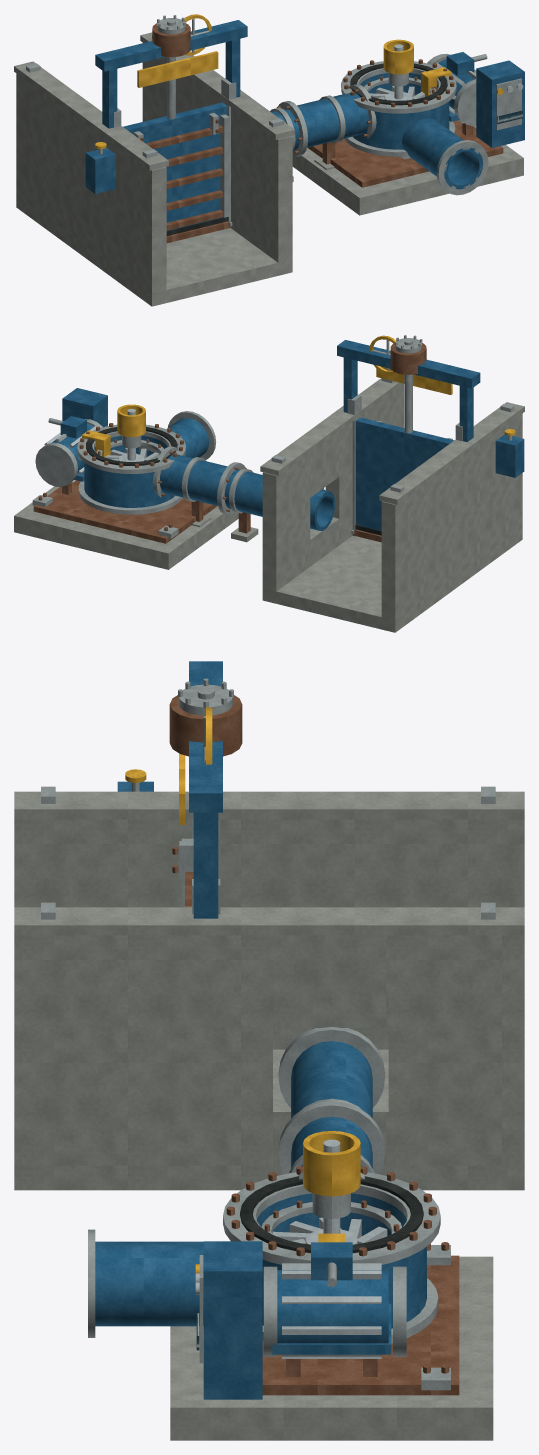
The model's file is PROJECT_Z_MicroHydro_Sluice_Turbine_Master.glb.
3 renders of one model, top to bottom at view 1: azimuth 30°, elevation 25°; view 2: azimuth 150°, elevation 25°; view 3: azimuth 270°, elevation 25°, orthographic. The views are drawn at different scales.
Parts seen in each view (by area): view 1: Sluice_Left_CanalWall_NODE, Sluice_Floor_4p5m_NODE, Sluice_RightWall_FlowFront_NODE, Gate_Panel_2p1m_NODE, Turbine_EquipmentFoundation_NODE, Canal_Coping_-1_NODE, DraftTube_Discharge_Pipe_NODE, Turbine_Skid_Deck_NODE, Turbine_ControlCabinet_NODE, Penstock_MainPipe_NODE, Turbine_Casing_Annulus_NODE, Gantry_LiftingCrossbeam_NODE (+30 smaller); view 2: Sluice_Left_CanalWall_NODE, Sluice_Floor_4p5m_NODE, Turbine_EquipmentFoundation_NODE, Sluice_RightWall_FlowRear_NODE, Gate_Panel_2p1m_NODE, Penstock_MainPipe_NODE, Turbine_Skid_Deck_NODE, Turbine_Casing_Annulus_NODE, Sluice_RightWall_FlowFront_NODE, Canal_Coping_-1_NODE, Canal_Coping_1_NODE, Gantry_LiftingCrossbeam_NODE (+20 smaller); view 3: Sluice_RightWall_FlowFront_NODE, Sluice_Left_CanalWall_NODE, Sluice_RightWall_FlowRear_NODE, Turbine_EquipmentFoundation_NODE, Canal_Coping_1_NODE, Canal_Coping_-1_NODE, Sluice_RightWall_PenstockHeader_NODE, Sluice_Floor_4p5m_NODE, Turbine_Skid_Deck_NODE, Turbine_ControlCabinet_NODE, DraftTube_Discharge_Pipe_NODE, Penstock_MainPipe_NODE (+19 smaller).
Part boxes in pixels (box(x1,y1,x2,y2)): Sluice_Left_CanalWall_NODE: box(16, 73, 166, 293); Sluice_Floor_4p5m_NODE: box(16, 194, 292, 306); Sluice_RightWall_FlowFront_NODE: box(209, 91, 292, 262); Gate_Panel_2p1m_NODE: box(123, 102, 227, 230); Turbine_EquipmentFoundation_NODE: box(292, 126, 523, 215); Canal_Coping_-1_NODE: box(14, 61, 168, 170); DraftTube_Discharge_Pipe_NODE: box(402, 118, 483, 189); Turbine_Skid_Deck_NODE: box(308, 120, 503, 187); Turbine_ControlCabinet_NODE: box(476, 60, 524, 147); Penstock_MainPipe_NODE: box(271, 92, 368, 150); Turbine_Casing_Annulus_NODE: box(353, 73, 449, 149); Gantry_LiftingCrossbeam_NODE: box(95, 20, 247, 71); Sluice_Left_CanalWall_NODE: box(381, 413, 522, 620); Sluice_Floor_4p5m_NODE: box(262, 527, 522, 632); Turbine_EquipmentFoundation_NODE: box(14, 486, 238, 569); Sluice_RightWall_FlowRear_NODE: box(262, 453, 310, 591); Gate_Panel_2p1m_NODE: box(355, 417, 453, 530); Penstock_MainPipe_NODE: box(159, 454, 335, 530); Turbine_Skid_Deck_NODE: box(33, 480, 217, 543); Turbine_Casing_Annulus_NODE: box(84, 435, 174, 507); Sluice_RightWall_FlowFront_NODE: box(325, 384, 403, 545); Canal_Coping_-1_NODE: box(379, 402, 524, 504); Canal_Coping_1_NODE: box(260, 378, 403, 475); Gantry_LiftingCrossbeam_NODE: box(337, 340, 480, 388); Sluice_RightWall_FlowFront_NODE: box(14, 935, 272, 1165); Sluice_Left_CanalWall_NODE: box(14, 819, 524, 1049); Sluice_RightWall_FlowRear_NODE: box(388, 935, 524, 1165); Turbine_EquipmentFoundation_NODE: box(170, 1256, 493, 1440); Canal_Coping_1_NODE: box(14, 907, 524, 935); Canal_Coping_-1_NODE: box(14, 791, 524, 819); Sluice_RightWall_PenstockHeader_NODE: box(273, 935, 388, 1027); Sluice_Floor_4p5m_NODE: box(14, 1049, 524, 1190); Turbine_Skid_Deck_NODE: box(262, 1255, 459, 1395); Turbine_ControlCabinet_NODE: box(203, 1241, 262, 1399); DraftTube_Discharge_Pipe_NODE: box(95, 1241, 203, 1326); Penstock_MainPipe_NODE: box(291, 1028, 372, 1168).
Bounding box in the file's own units: 8.68 × 4.23 × 4.5.
8 materials, 8 textured.
